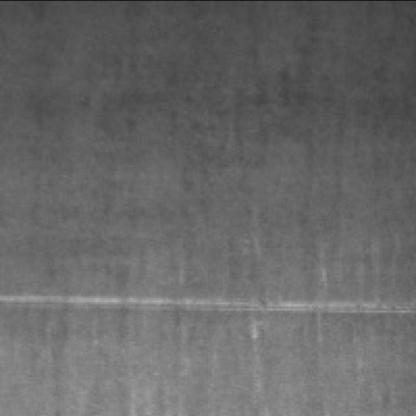scratches: (4, 287, 416, 314)
